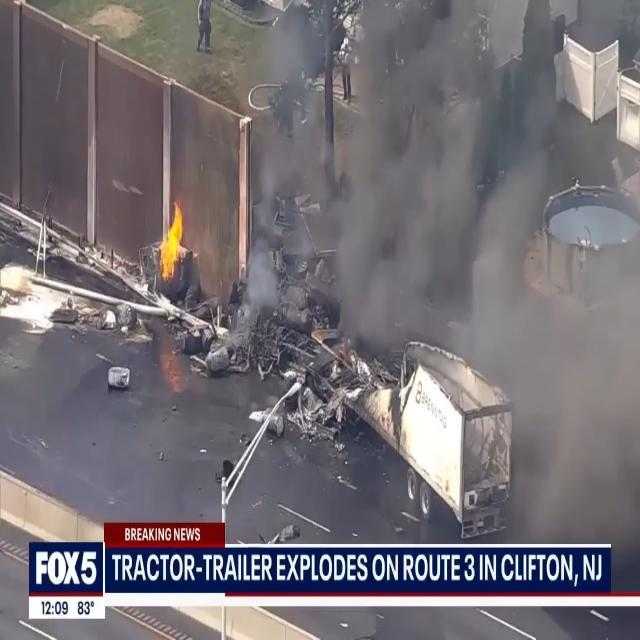fire: (149, 195, 189, 286)
